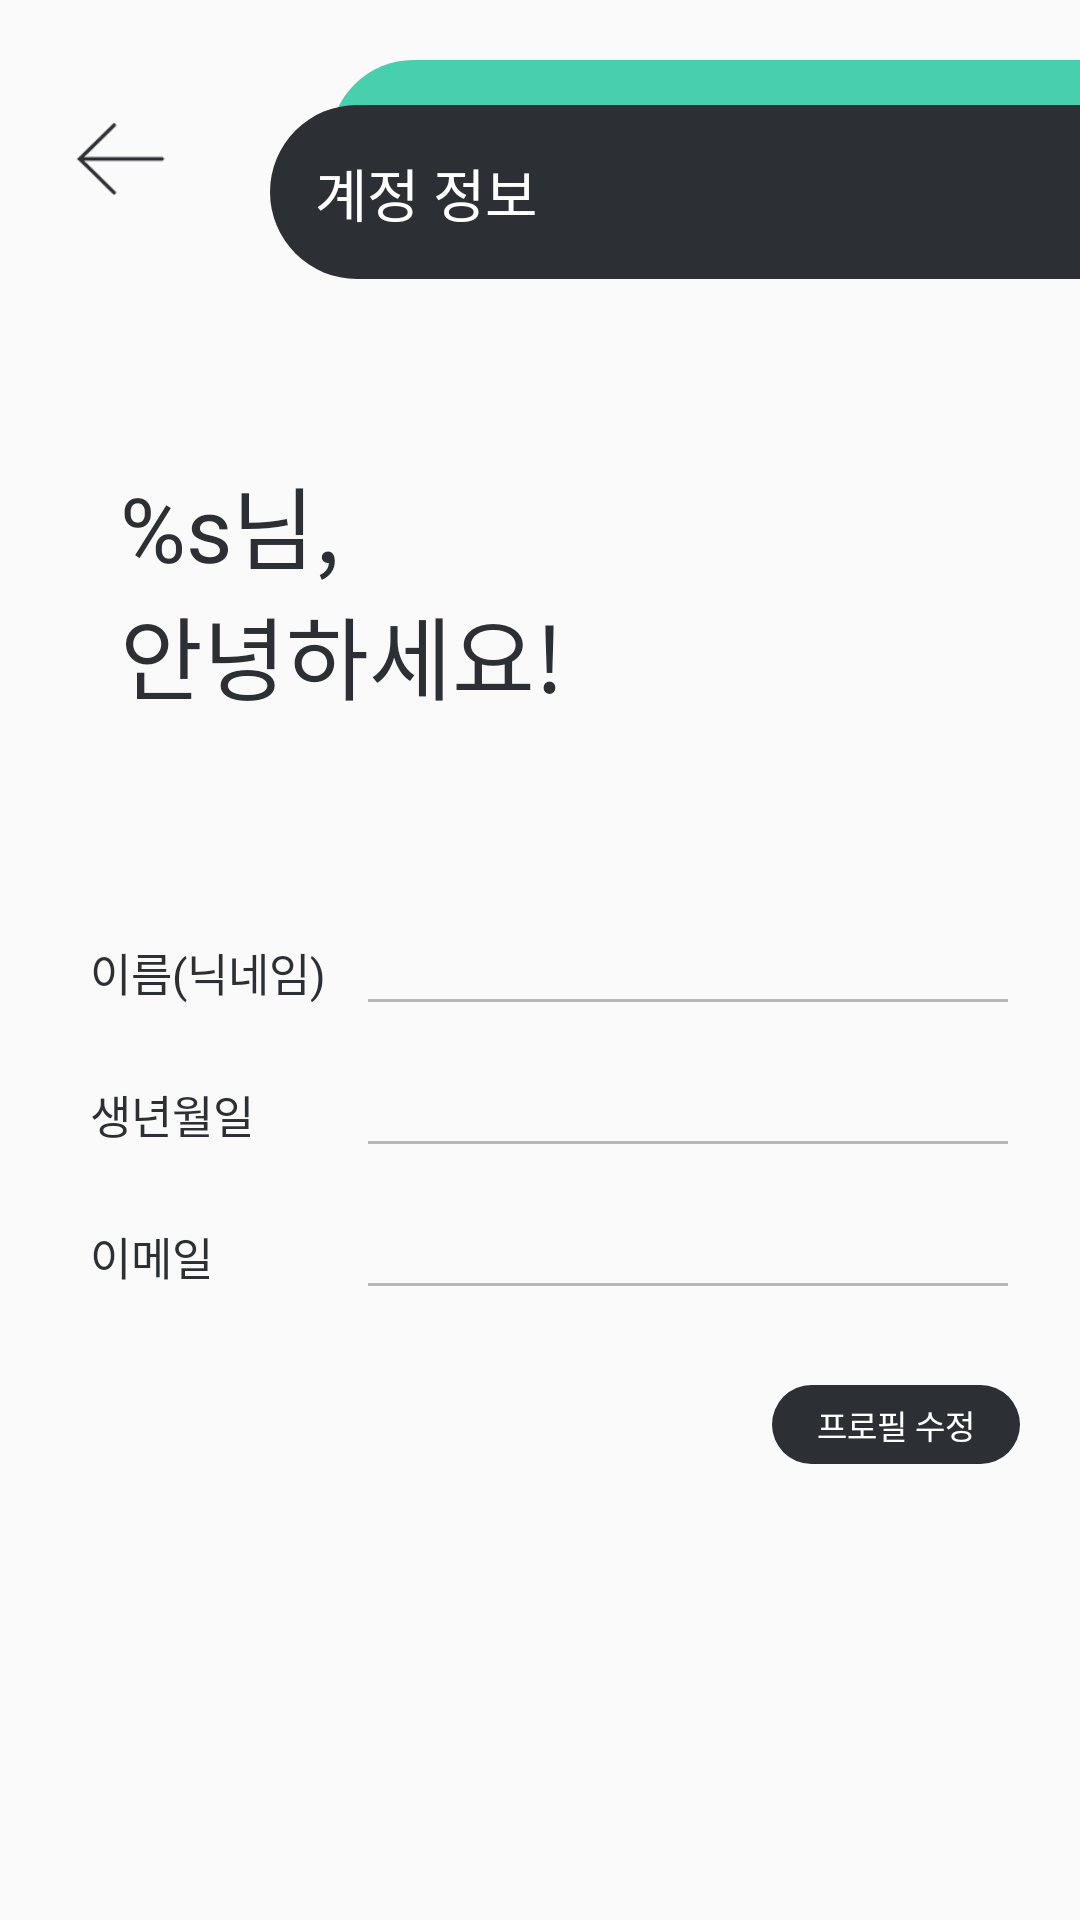

Icons on this 1080 × 1920 Android screen, each with its box as [x1, y1, x2, y2]:
back arrow: [77, 123, 165, 195]
